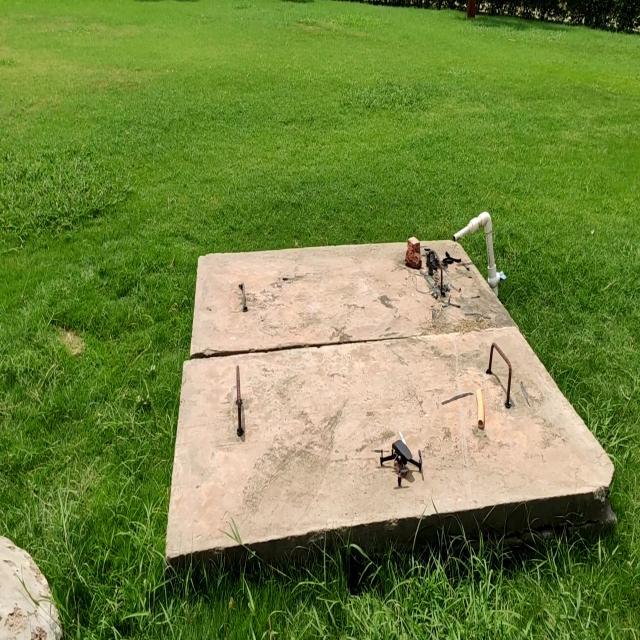drone: (372, 427, 431, 488)
